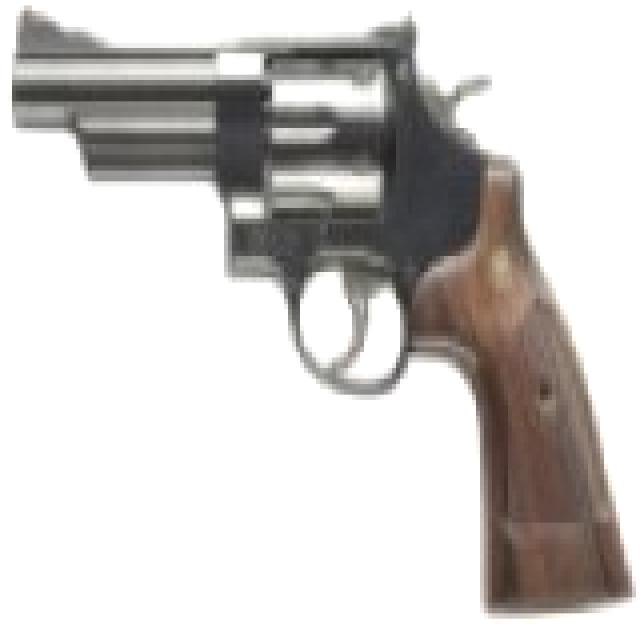pistol: (20, 0, 640, 603)
